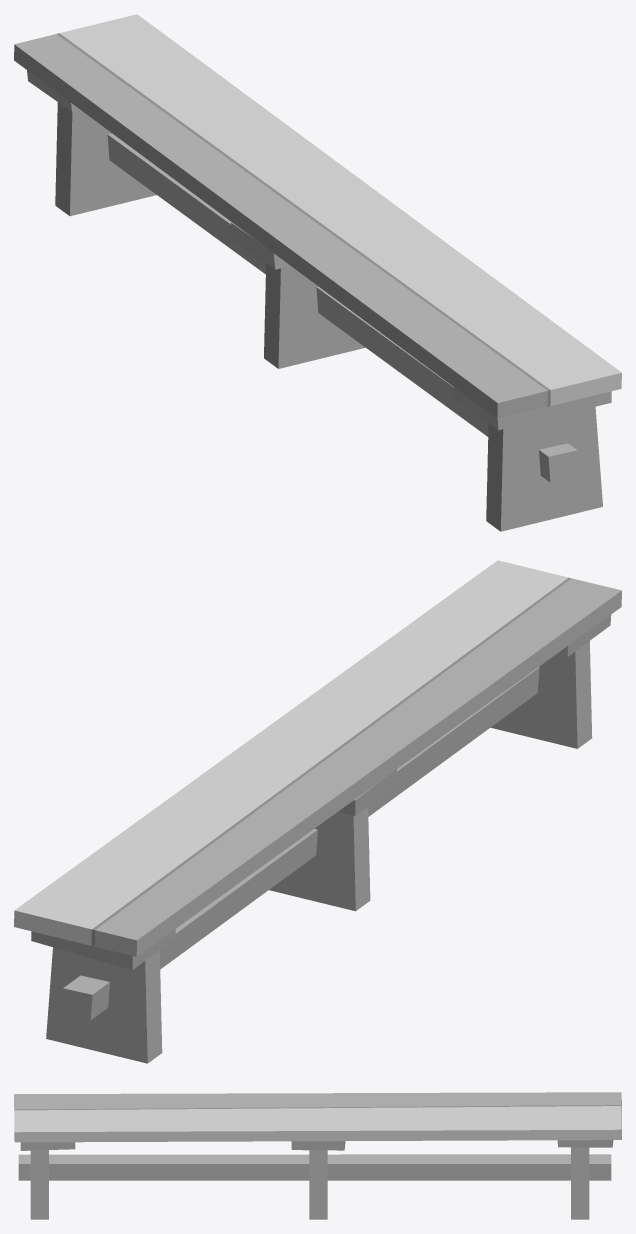
The model's file is PT_Large_Bench_01.fbx.
3 renders of one model, top to bottom at view 1: azimuth 30°, elevation 25°; view 2: azimuth 150°, elevation 25°; view 3: azimuth 270°, elevation 25°, orthographic. The views are drawn at different scales.
Parts seen in each view (by area): view 1: PT_Large_Bench_01; view 2: PT_Large_Bench_01; view 3: PT_Large_Bench_01.
Boxes of the visible parts, left/top/right/bottom form: PT_Large_Bench_01: left=14, top=14, right=621, bottom=531; PT_Large_Bench_01: left=14, top=560, right=621, bottom=1063; PT_Large_Bench_01: left=14, top=1092, right=621, bottom=1219.
Size of the model in its own units: 48.93 by 54.98 by 331.
Materials: 1 (1 with a texture image).
